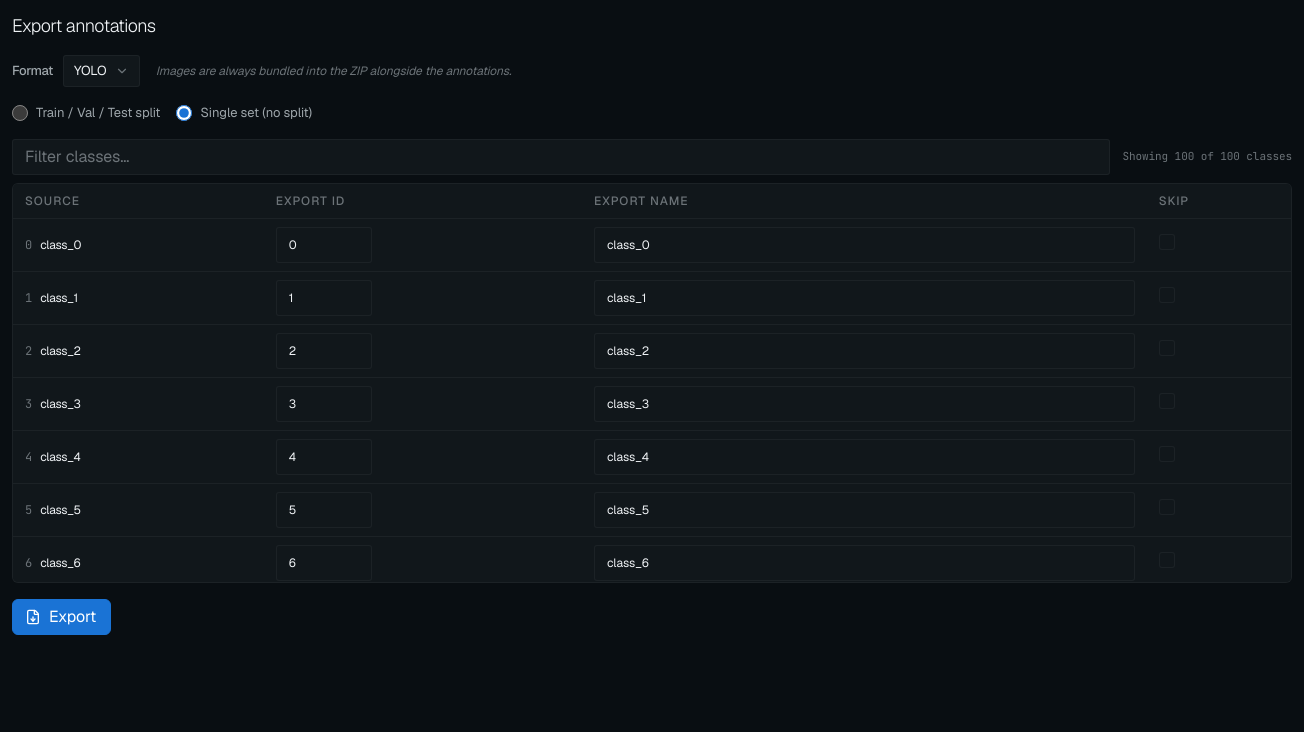
Test case: ExportDialog — class density (v3.0 B10) › filtering 'foo' narrows visible classes and updates the count
The image size is (1304, 732).
Check: the text "class_0" is shown, box 40,236 -> 81,252
Type "foo" into the search field with test id "export-class-filter" at (561, 156), box 12,138 -> 1110,174
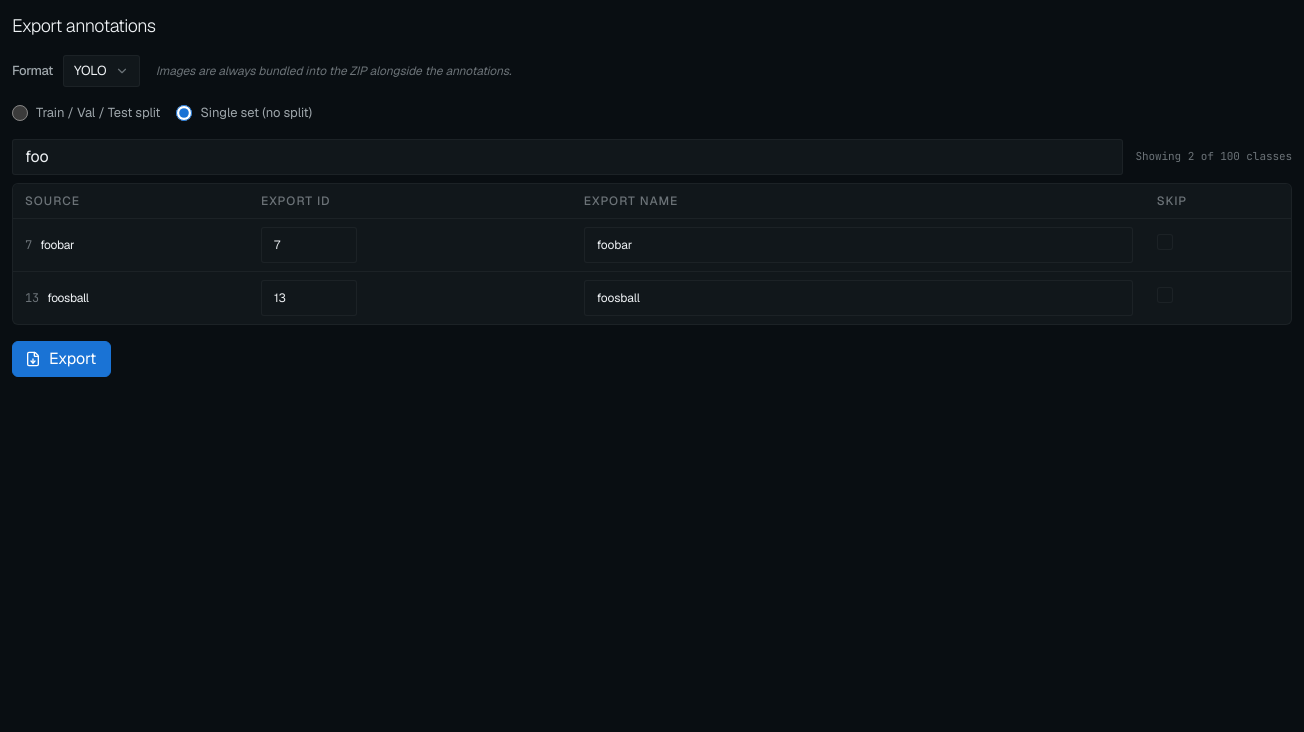
Check: the text "class_0" is gone
Check: the text "foobar" is shown, box 40,236 -> 74,252
Check: the text "foosball" is shown, box 47,290 -> 89,306
